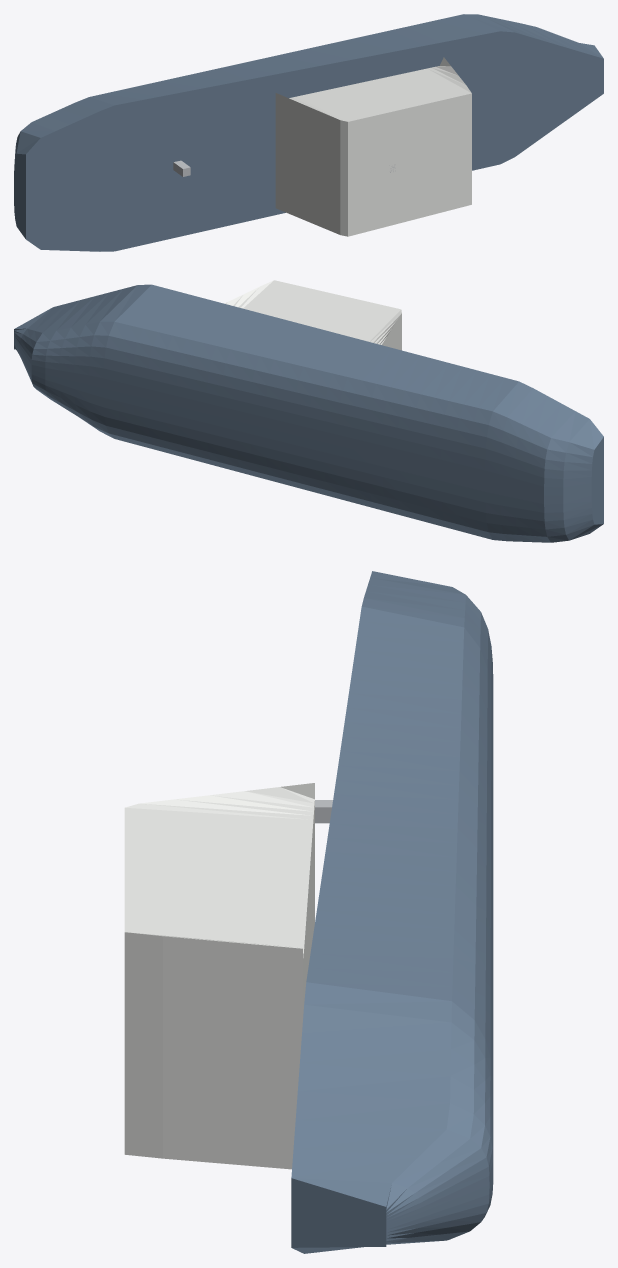
Rendered from loft-tug.glb.
The picture shows the model from 3 angles, top to bottom: view 1: azimuth 30°, elevation 25°; view 2: azimuth 150°, elevation 25°; view 3: azimuth 270°, elevation 25°; orthographic projection. The views are drawn at different scales.
Visible parts, largest first — view 1: tug; view 2: tug; view 3: tug.
Boxes of the visible parts, x1,y1,x2,y2 form: tug: (14,14,603,251); tug: (14,280,603,542); tug: (124,571,493,1253).
Size of the model in its own units: 1.8 by 0.4397 by 0.5027.
